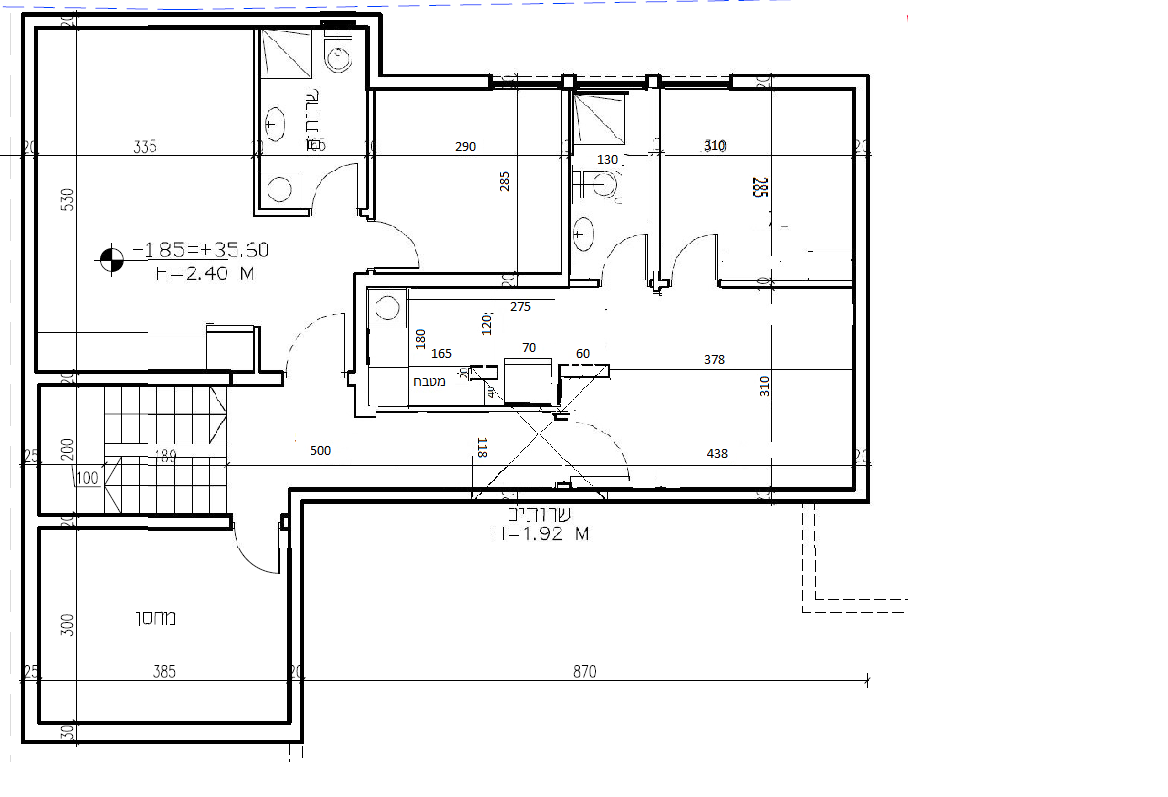door: (282, 300, 347, 373), (382, 216, 441, 272), (299, 153, 358, 209), (232, 536, 284, 588), (672, 224, 724, 276), (601, 219, 650, 273)
wall: (292, 491, 836, 504), (75, 721, 294, 743), (856, 161, 870, 499)
